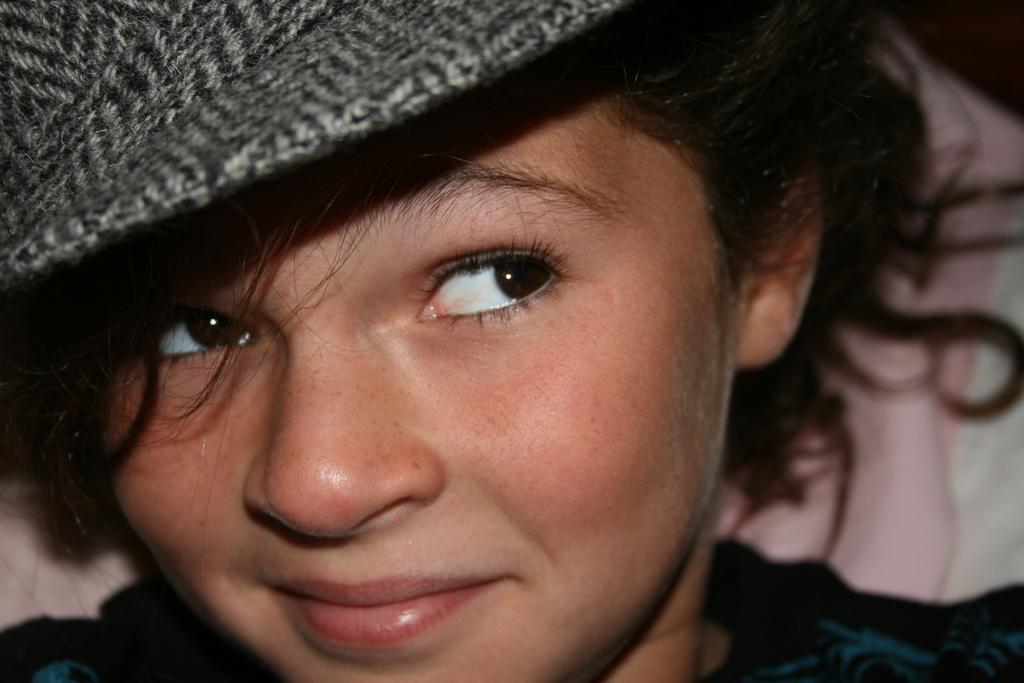Hat: (0, 0, 626, 285)
